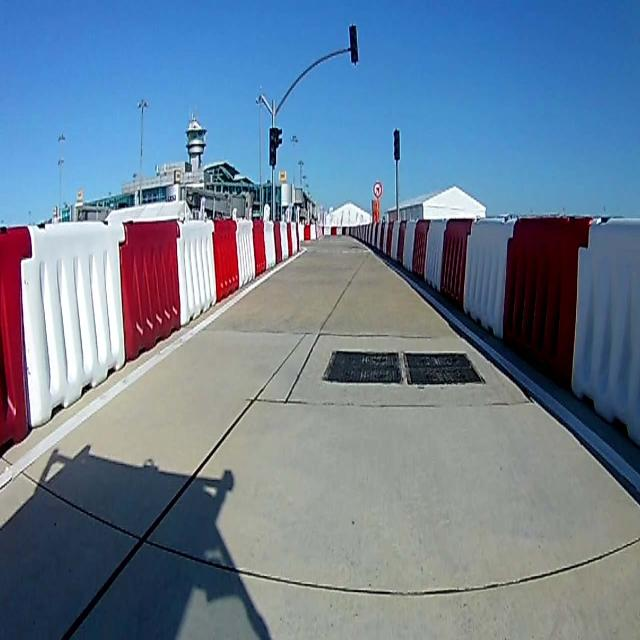soladonulmez: (373, 182, 382, 198)
